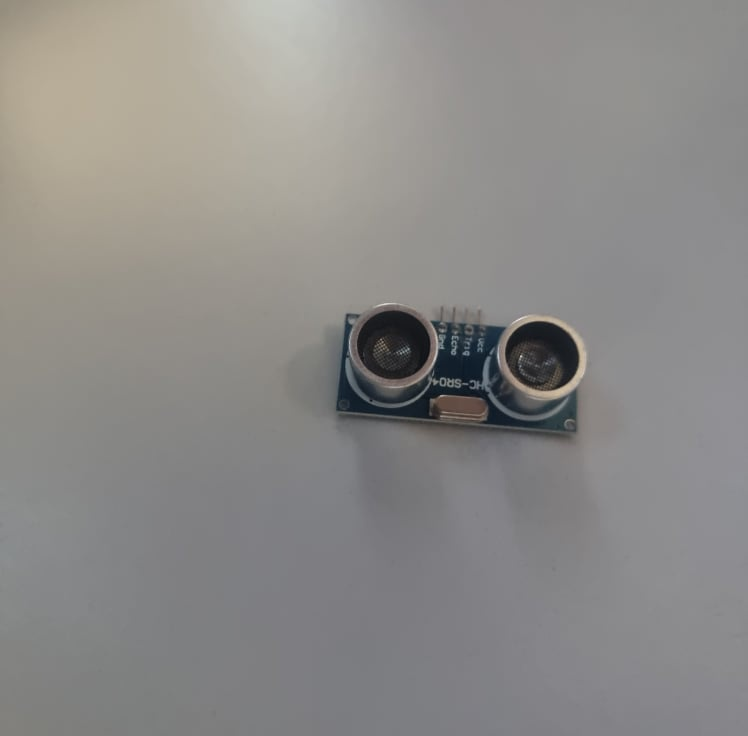SENSOR: (332, 300, 588, 435)
